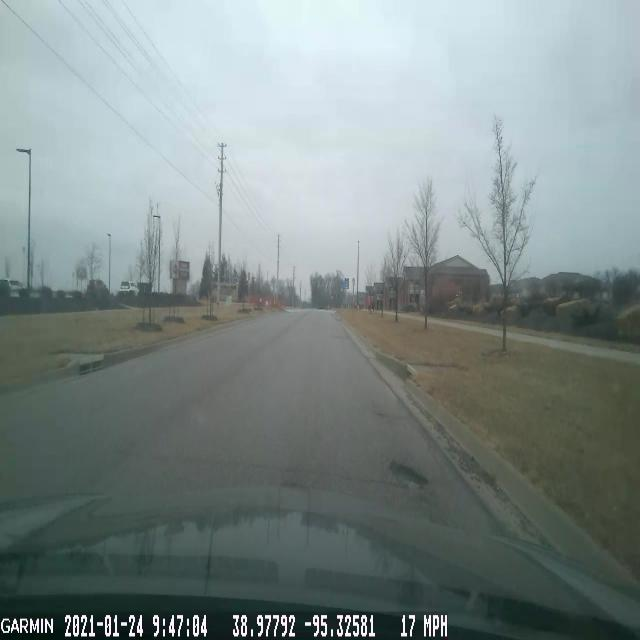Pothole: (386, 457, 432, 498)
